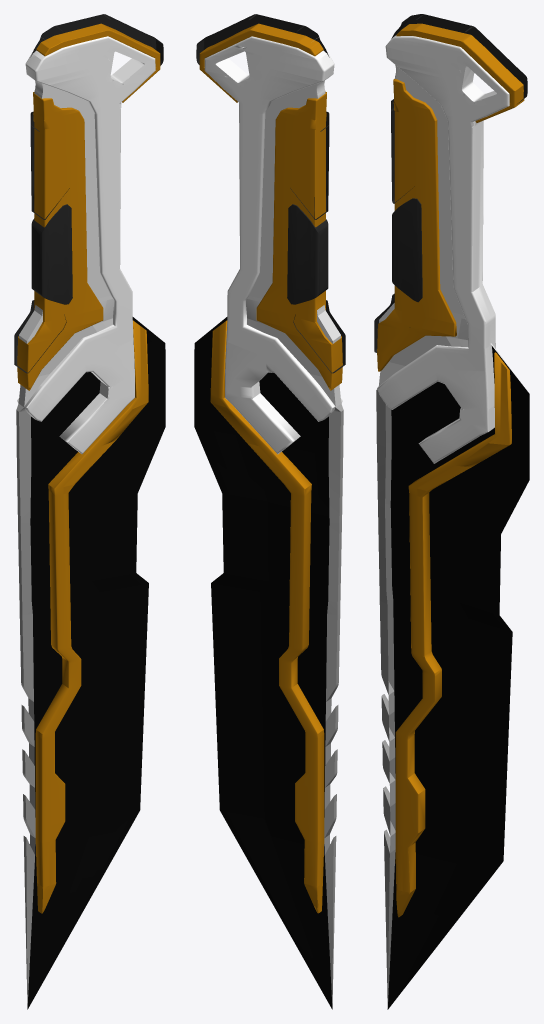
Rendered from ValorantKnife.fbx.
3 renders of one model, left to right at view 1: azimuth 30°, elevation 25°; view 2: azimuth 150°, elevation 25°; view 3: azimuth 330°, elevation 25°, orthographic. The views are drawn at different scales.
Parts seen in each view (by area): view 1: knife_0; view 2: knife_0; view 3: knife_0.
Boxes of the visible parts, <box> form: knife_0: <box>14,14,165,1009</box>; knife_0: <box>194,14,345,1009</box>; knife_0: <box>374,14,529,1009</box>.
Size of the model in its own units: 4770 by 30000 by 660.
